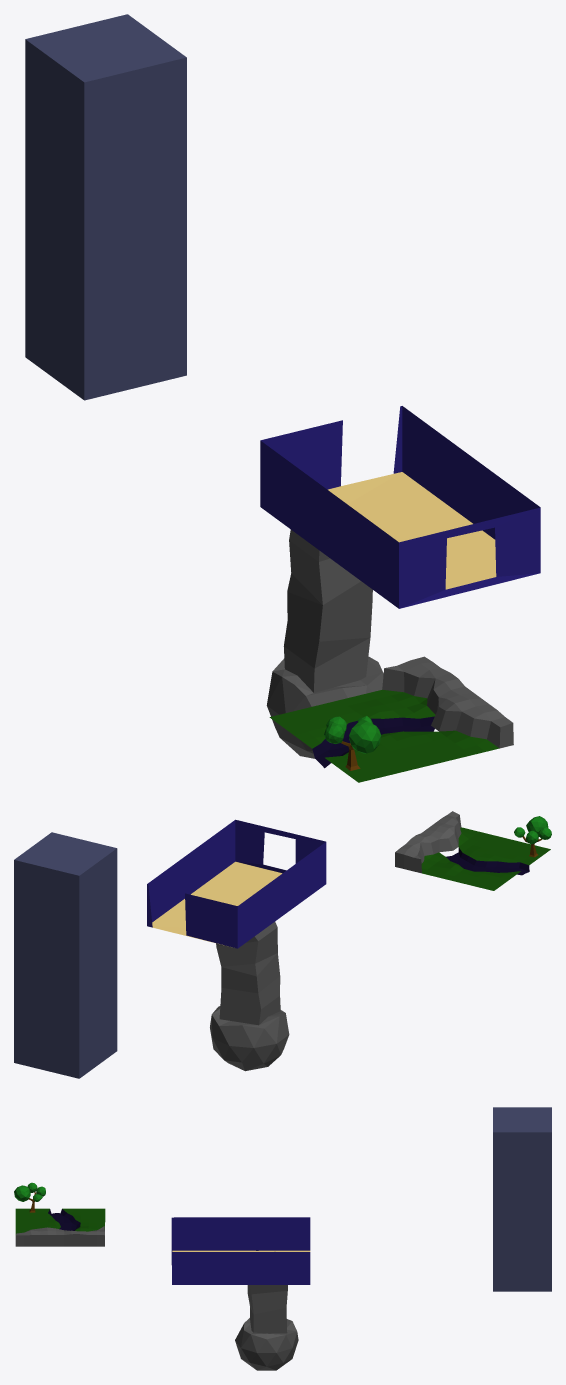
The model's file is threeJsScenePotato.glb.
The picture shows the model from 3 angles, top to bottom: view 1: azimuth 30°, elevation 25°; view 2: azimuth 150°, elevation 25°; view 3: azimuth 270°, elevation 25°; orthographic projection. The views are drawn at different scales.
Parts seen in each view (by area): view 1: Experience and projects, Main Menu, Skill island, Education, Tree; view 2: Experience and projects, Main Menu, Education, Skill island, Tree; view 3: Experience and projects, Main Menu, Education, Skill island, Tree.
Boxes of the visible parts, x1,y1,x2,y2 form: Experience and projects: (25, 14, 186, 400); Main Menu: (260, 406, 540, 608); Skill island: (269, 656, 513, 782); Education: (266, 529, 383, 758); Tree: (324, 716, 381, 770); Experience and projects: (14, 832, 117, 1078); Main Menu: (147, 819, 326, 948); Education: (210, 921, 289, 1071); Skill island: (395, 811, 550, 890); Tree: (514, 816, 551, 857); Experience and projects: (493, 1107, 551, 1291); Main Menu: (171, 1217, 310, 1284); Education: (235, 1250, 298, 1370); Skill island: (15, 1208, 105, 1246); Tree: (14, 1182, 45, 1212).
Size of the model in its own units: 72.48 by 100 by 190.
7 materials, 1 textured.
